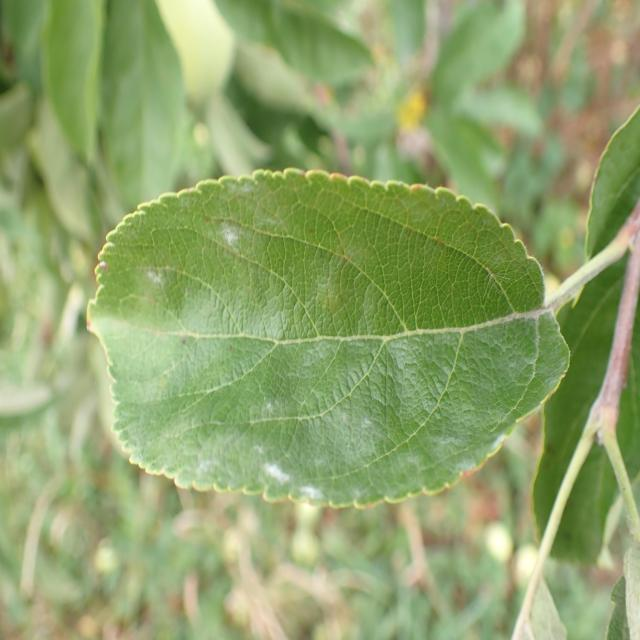Powdery_mildew: (81, 175, 538, 507)
